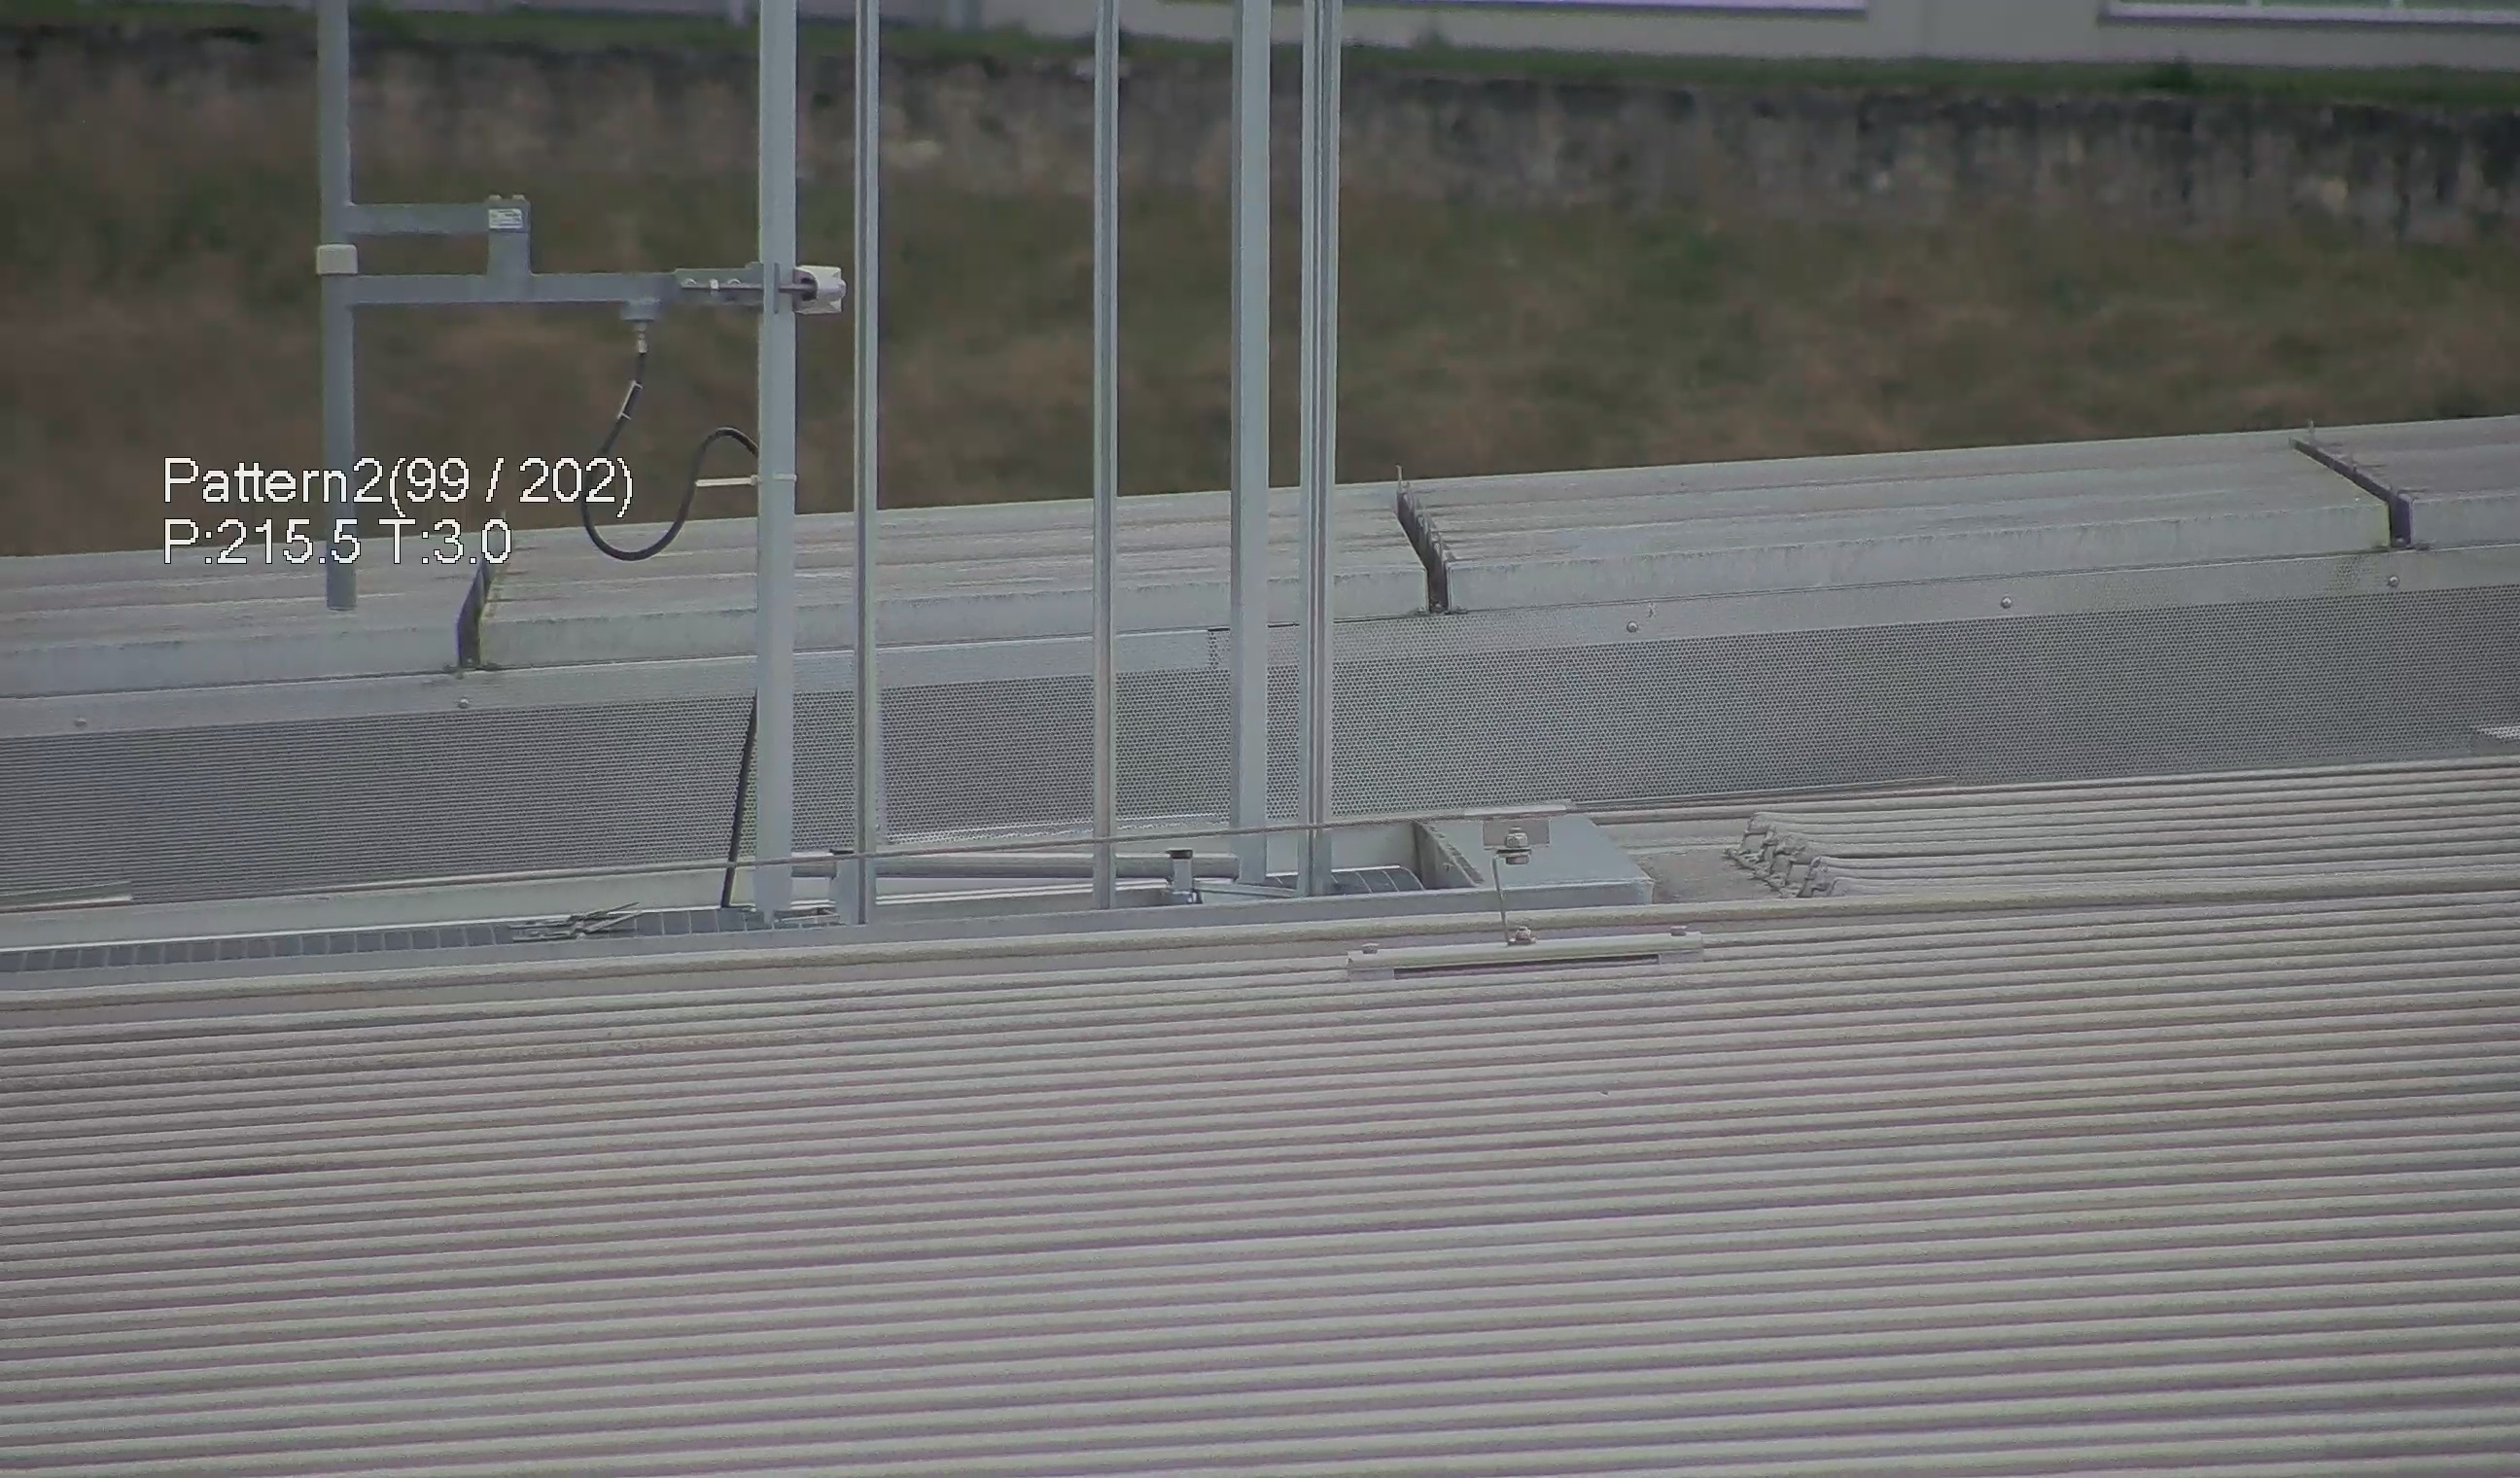Other: (1375, 463, 1477, 616)
